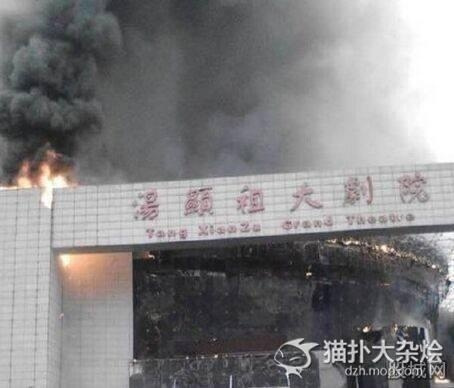fire: (6, 150, 72, 191), (58, 249, 75, 266)
